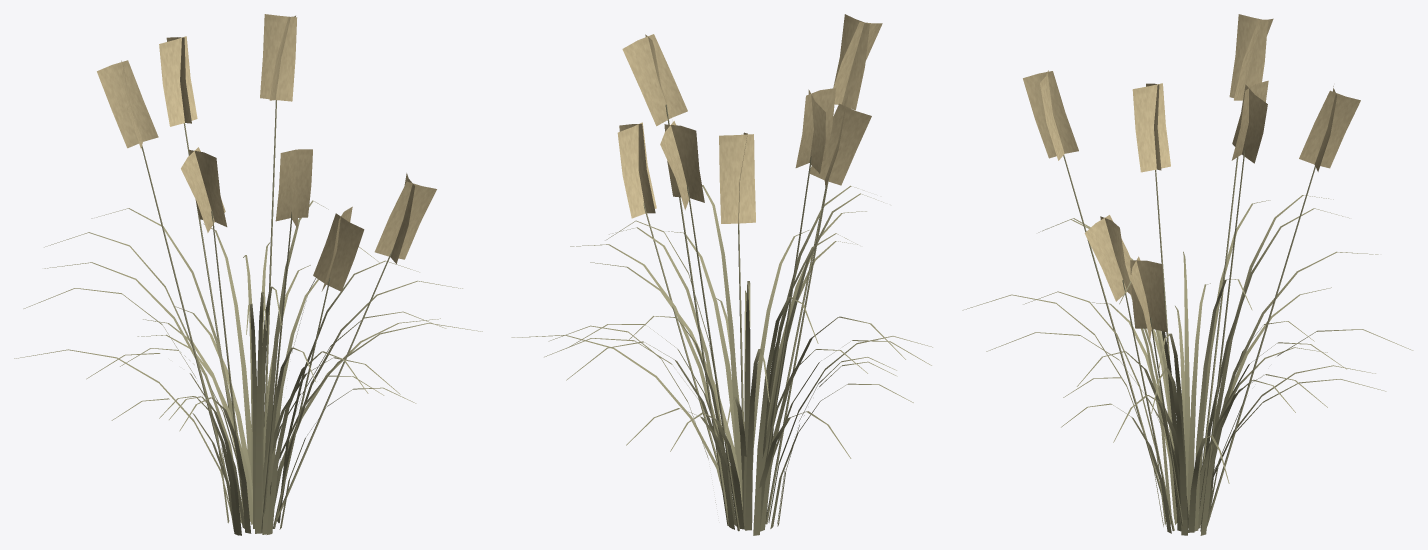
File: pampas_grass.glb
The picture shows the model from 3 angles, left to right: view 1: azimuth 30°, elevation 25°; view 2: azimuth 150°, elevation 25°; view 3: azimuth 270°, elevation 25°; orthographic projection. The views are drawn at different scales.
Visible parts, largest first — view 1: PampasBlades, PampasPlumes; view 2: PampasBlades, PampasPlumes; view 3: PampasBlades, PampasPlumes.
Boxes of the visible parts, x1=… form: PampasBlades: x1=14, y1=100, x2=482, y2=535; PampasPlumes: x1=97, y1=14, x2=436, y2=291; PampasBlades: x1=511, y1=104, x2=932, y2=535; PampasPlumes: x1=617, y1=14, x2=882, y2=224; PampasBlades: x1=962, y1=148, x2=1413, y2=535; PampasPlumes: x1=1023, y1=14, x2=1360, y2=339.
Size of the model in its own units: 1.5 by 1.71 by 1.48.
Materials: 2 (1 with a texture image).
